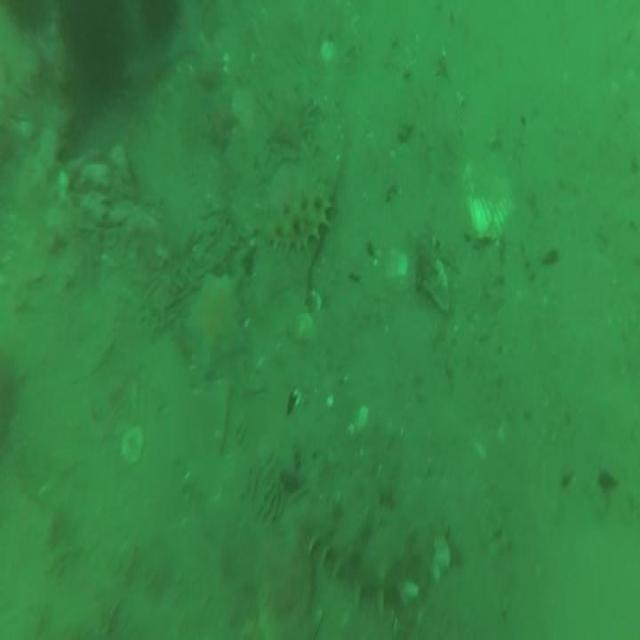echinus: (58, 3, 132, 90), (139, 0, 177, 35)
holothurian: (298, 507, 408, 613), (264, 183, 329, 253)
scallop: (460, 163, 514, 243)
starfish: (182, 272, 244, 376), (267, 84, 313, 148), (202, 93, 238, 147)
